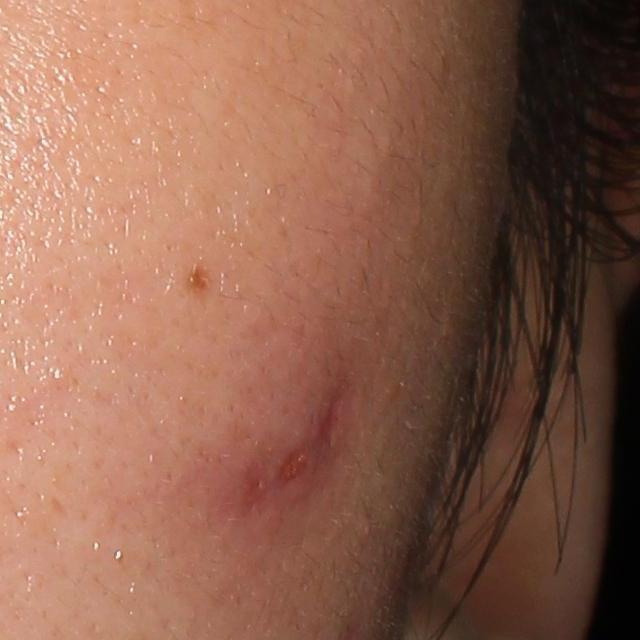atrophic_scar: (276, 445, 311, 485)
nevus: (184, 257, 223, 296)
